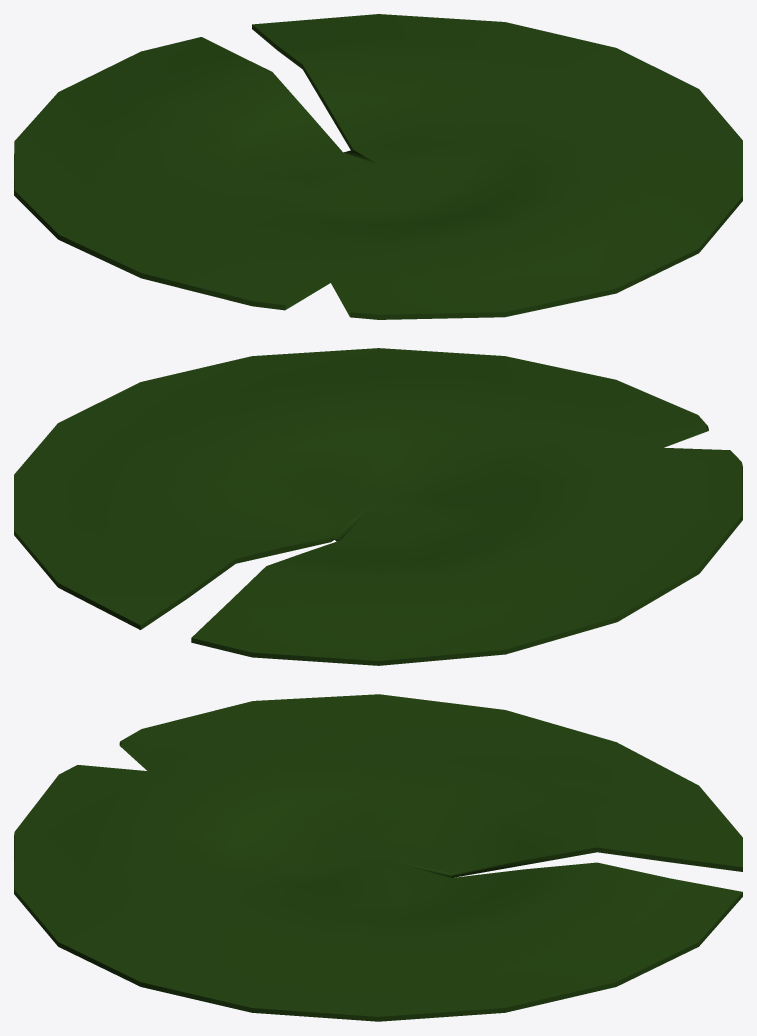
File: LillyPad01.fbx
3 renders of one model, top to bottom at view 1: azimuth 30°, elevation 25°; view 2: azimuth 150°, elevation 25°; view 3: azimuth 270°, elevation 25°, orthographic.
Visible parts, largest first — view 1: Cylinder002; view 2: Cylinder002; view 3: Cylinder002.
Part boxes in pixels (x1=…): Cylinder002: x1=14, y1=14, x2=742, y2=319; Cylinder002: x1=14, y1=348, x2=742, y2=665; Cylinder002: x1=14, y1=694, x2=742, y2=1021.
Size of the model in its own units: 146 by 7.8 by 144.
